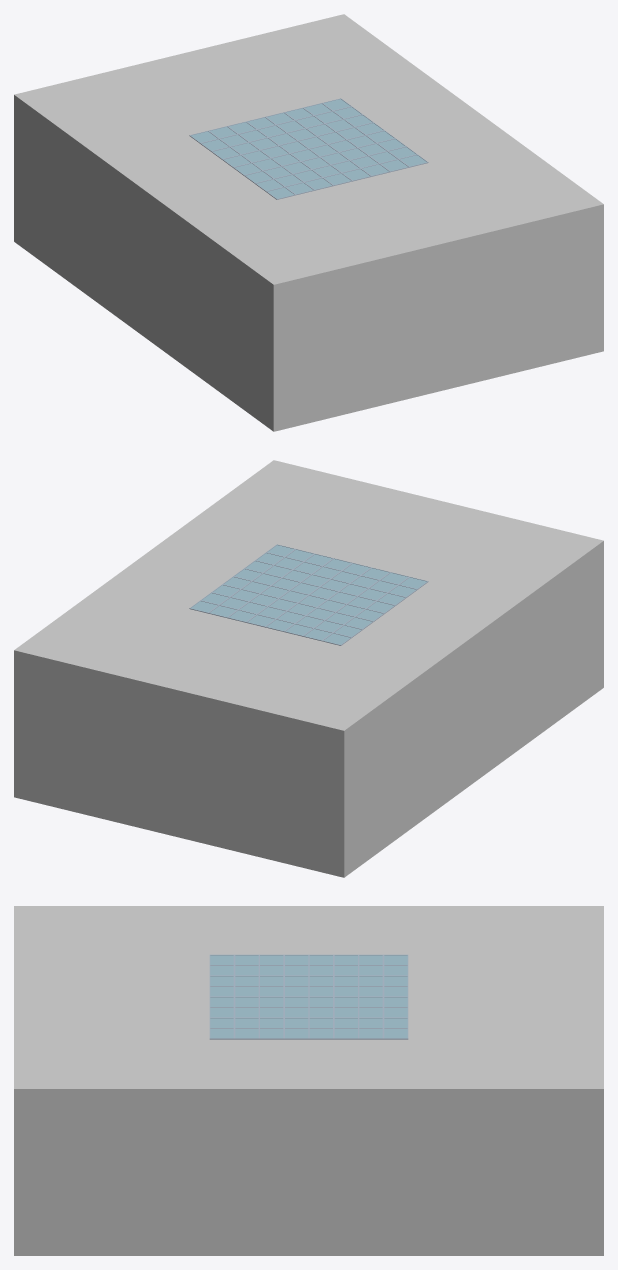
File: Showroom.fbx
The picture shows the model from 3 angles, top to bottom: view 1: azimuth 30°, elevation 25°; view 2: azimuth 150°, elevation 25°; view 3: azimuth 270°, elevation 25°; orthographic projection. The views are drawn at different scales.
Parts seen in each view (by area): view 1: shadow, window; view 2: shadow, window; view 3: shadow, window.
Boxes of the visible parts, bbox=[...] form: shadow: bbox=[14, 14, 603, 431]; window: bbox=[189, 98, 428, 199]; shadow: bbox=[14, 460, 603, 877]; window: bbox=[189, 544, 428, 645]; shadow: bbox=[14, 906, 603, 1255]; window: bbox=[209, 954, 408, 1039].
Size of the model in its own units: 2692 by 1151 by 3670.
